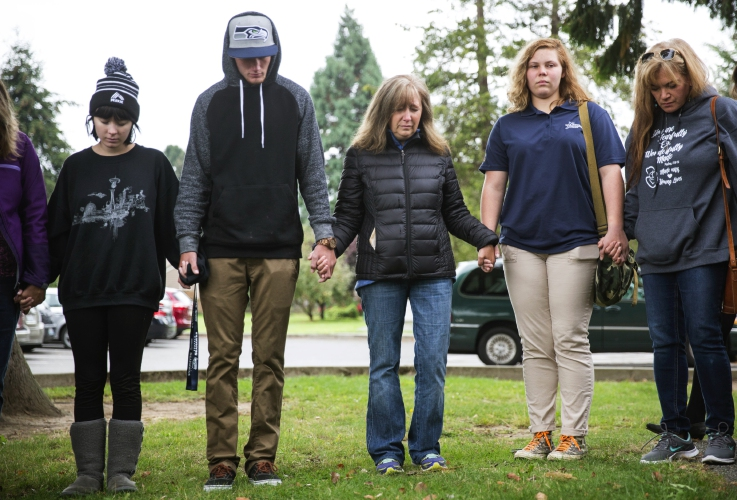Person: (173, 9, 336, 500), (331, 71, 485, 480), (485, 31, 625, 458), (53, 67, 187, 500), (609, 42, 737, 471)
